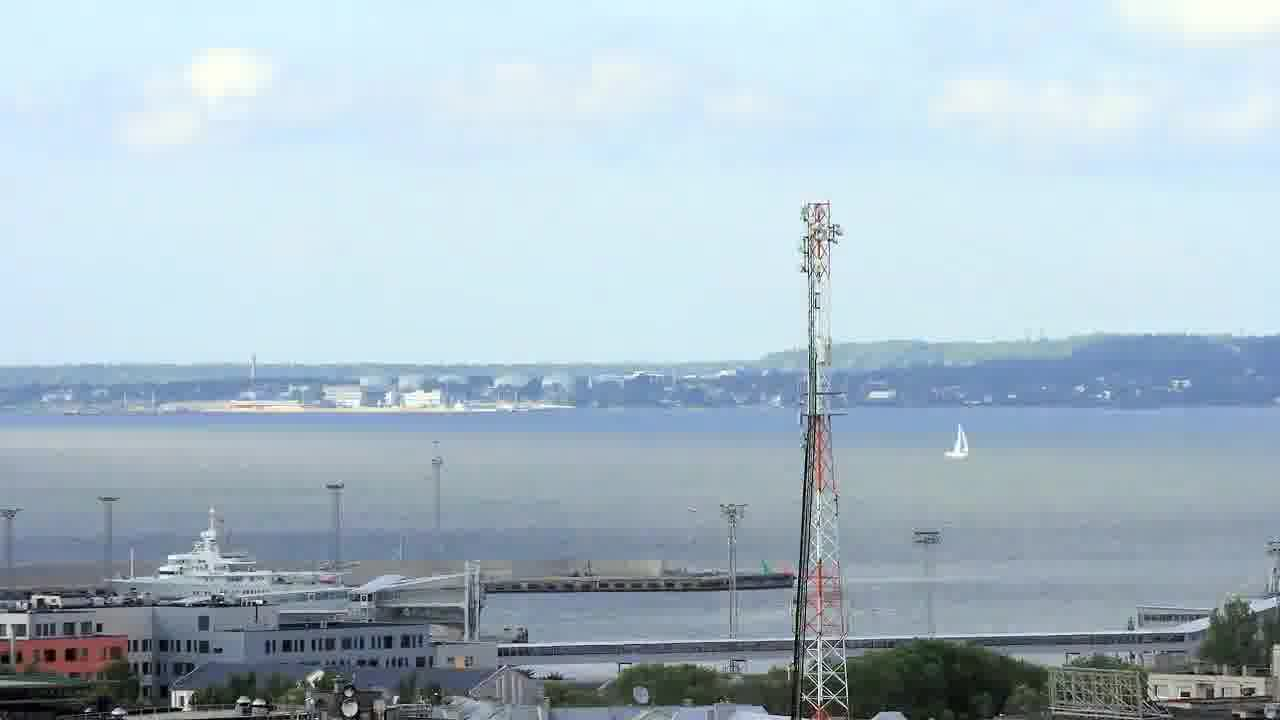type-2: (929, 414, 984, 466)
type-3: (84, 515, 355, 603)
